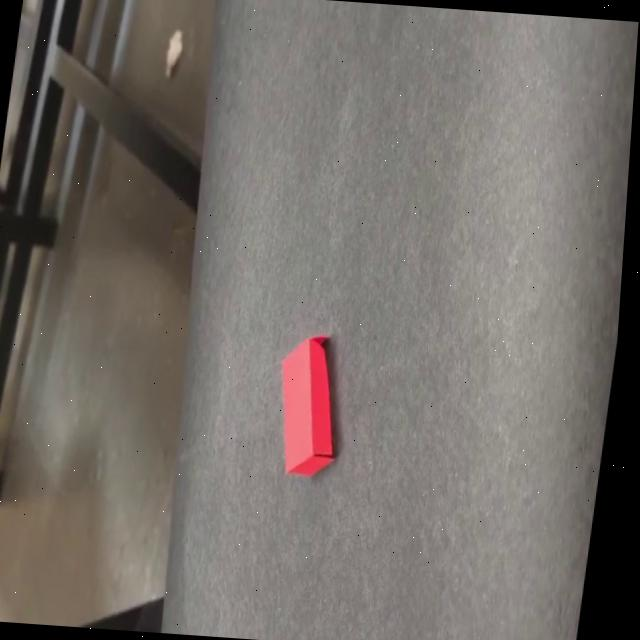red block: (263, 332, 350, 480)
